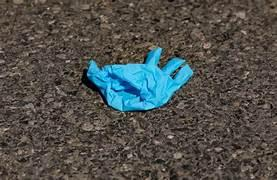Glove: (87, 48, 192, 110)
